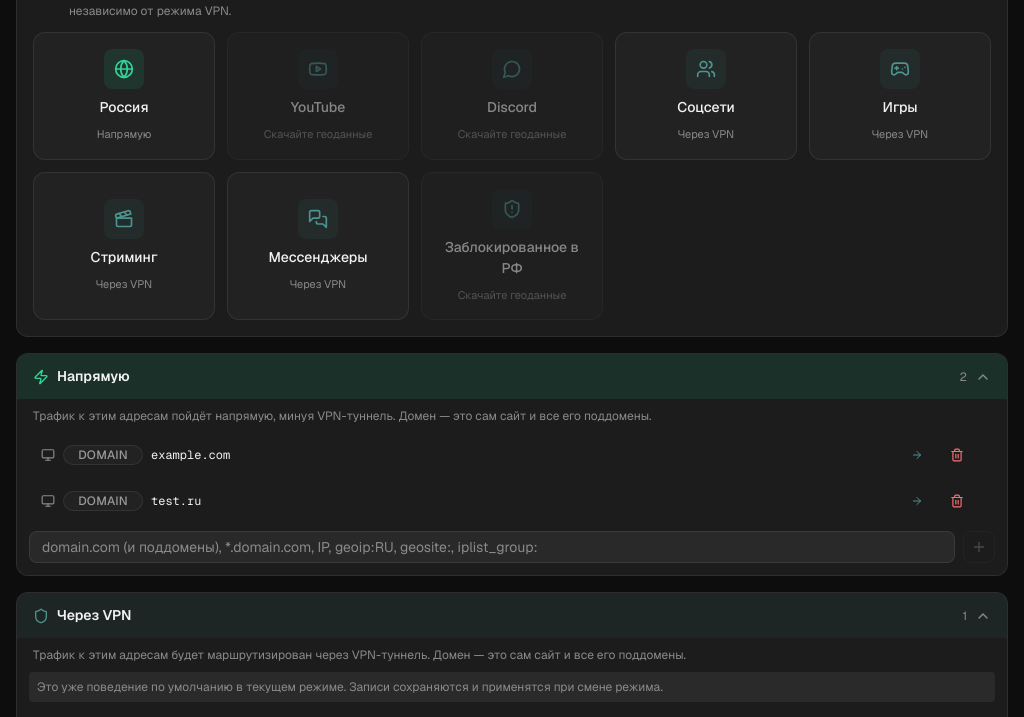
RoutingPanel › opens only the collapsed target when the user adds a preset
(page scrolled)
Check: the text "example.com" is shown, box [151,447,230,463]
Click the button "Напрямую 2": (93,376) [17,354,1007,399]
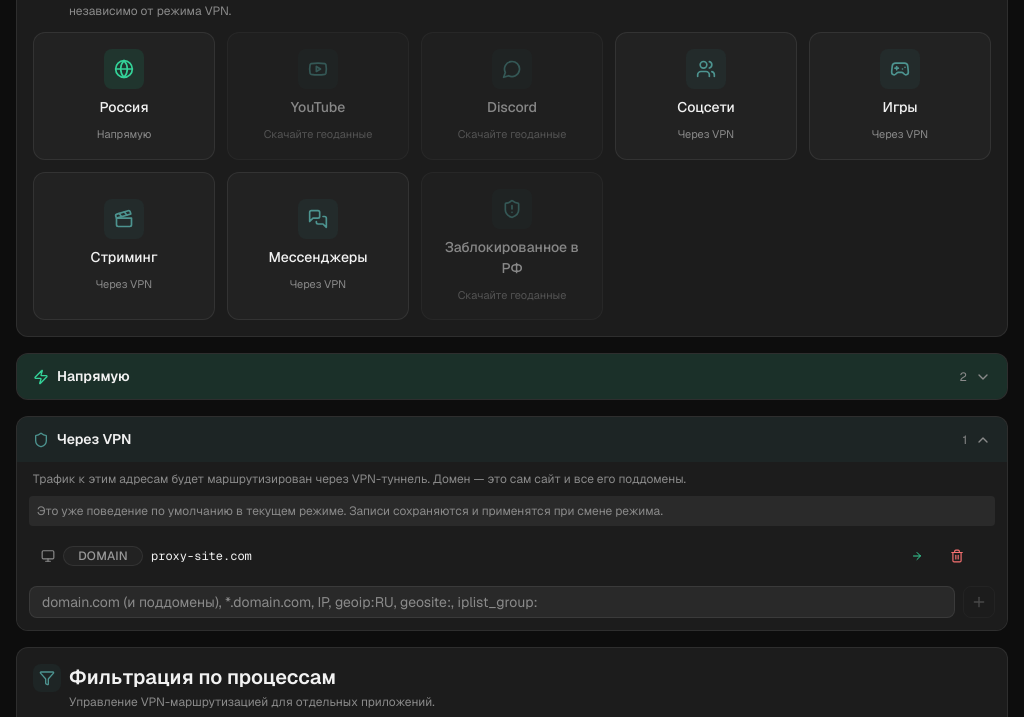
Click the button with aria-label "Добавить пресет «Россия» — Напрямую": (124,96) [33,32,215,160]
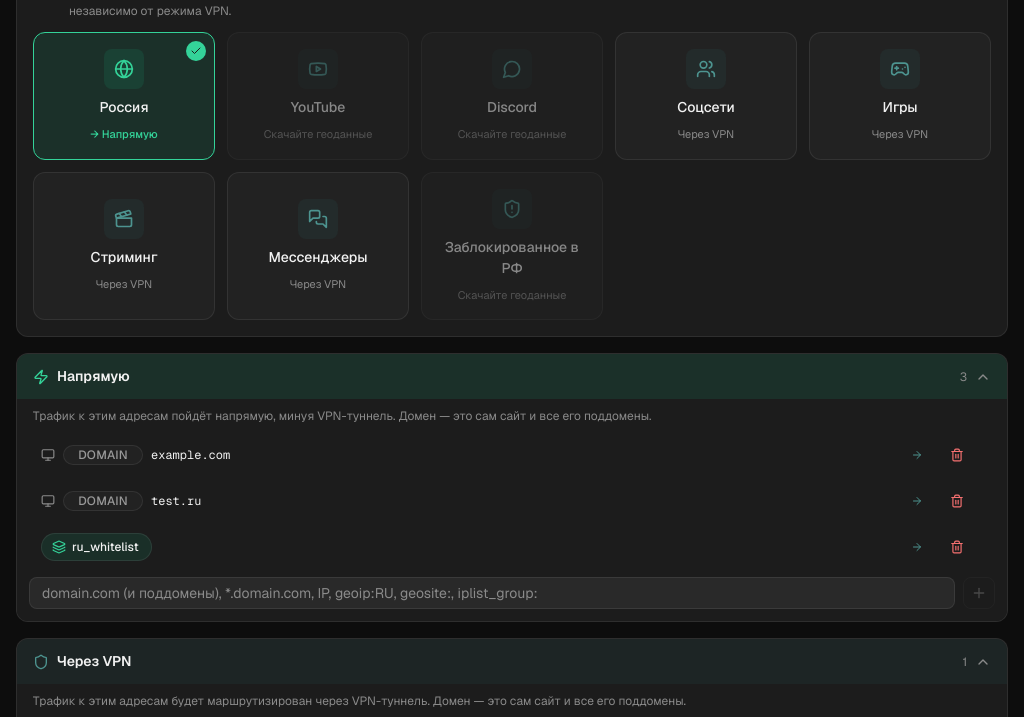
Check: the element named "Напрямую" shows "ru_whitelist", box [72,539,139,555]
